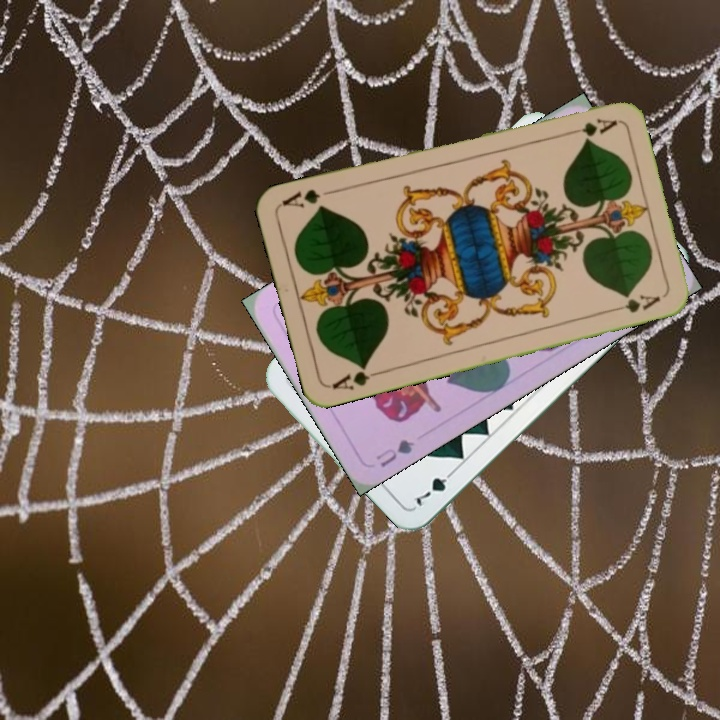G7: (409, 464, 459, 509)
GA: (328, 360, 385, 393), (560, 114, 619, 138)
GU: (371, 435, 417, 470)
